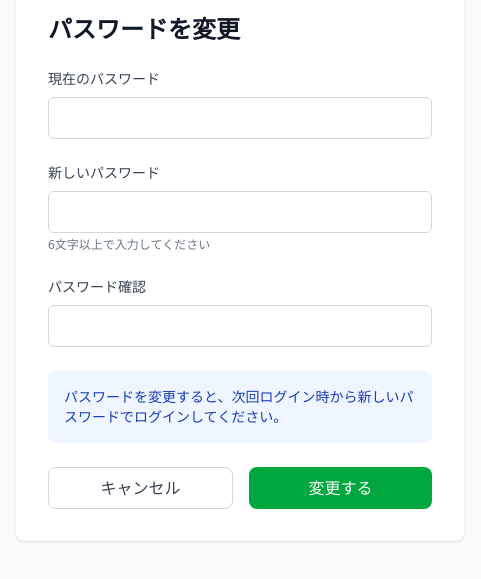
Test: ChangePassword › バリデーションエラー時にバックエンドのエラーメッセージが表示されること
The image size is (481, 579).
Type "oldPassword123" into the password field labelled "現在のパスワード" at (240, 118), box [48,97,432,139]
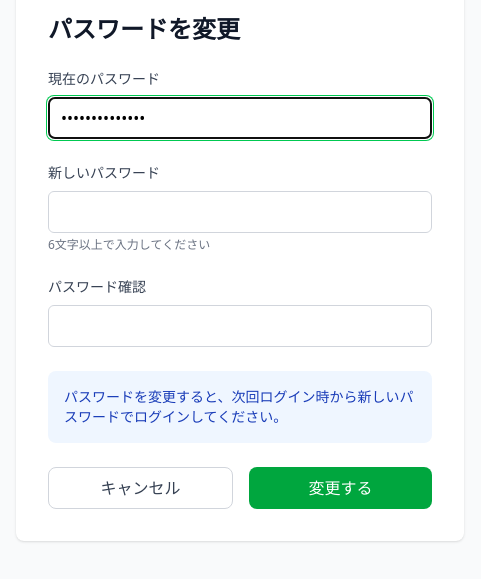
Type "newPassword456" into the password field labelled "新しいパスワード" at (240, 212), box [48,191,432,233]
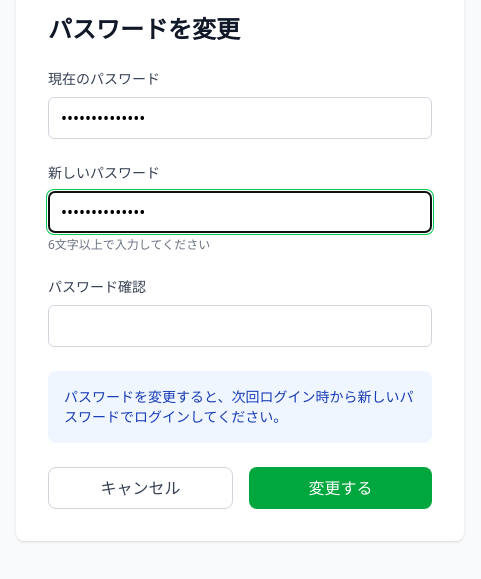
Type "newPassword456" into the password field labelled "パスワード確認" at (240, 326), box [48,305,432,347]
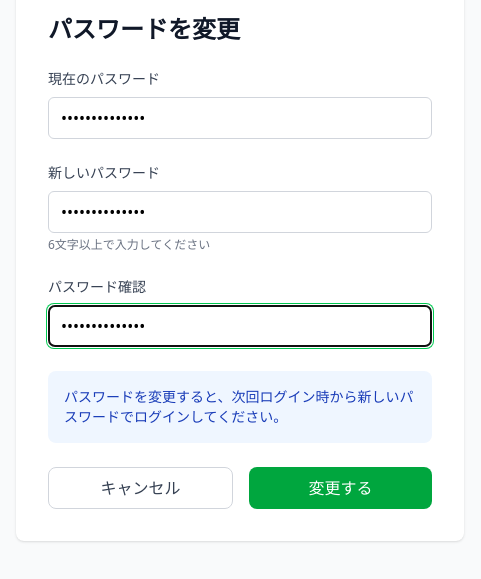
Click the button "変更する" at (340, 488), box [249,467,432,509]
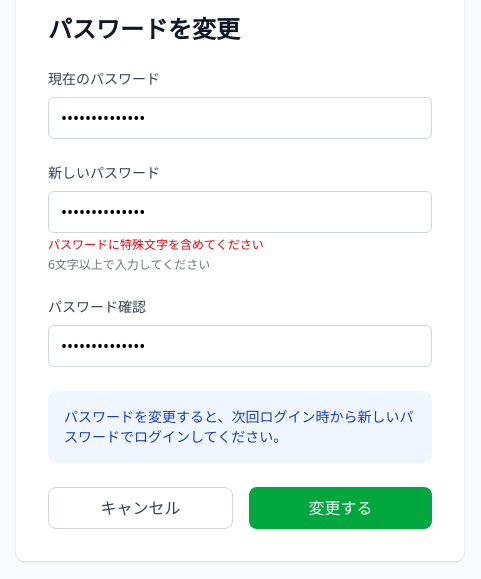
Expected: the text "パスワードに特殊文字を含めてください" is shown, [48,236,264,253]
